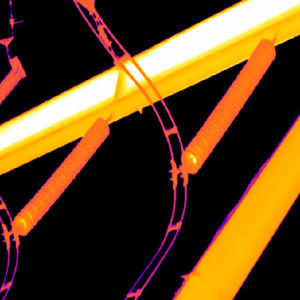insulator: (180, 38, 278, 174), (11, 116, 110, 236)
